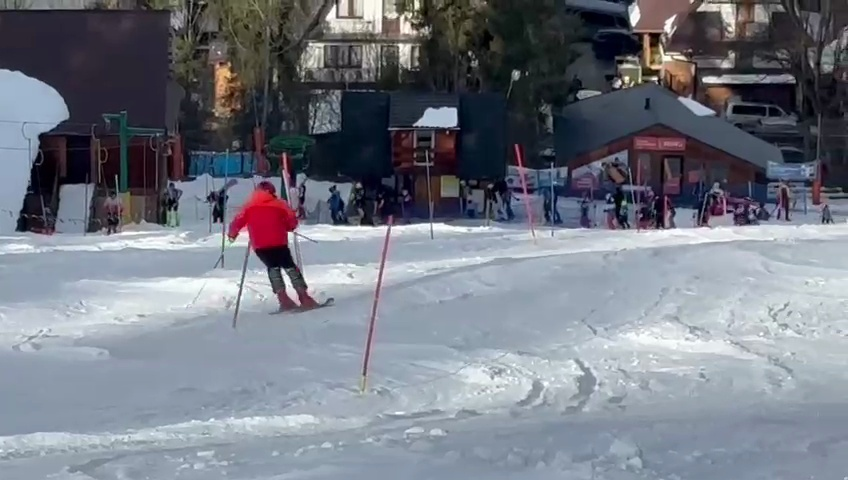gate: (351, 216, 406, 397), (227, 184, 263, 335), (280, 153, 314, 307), (514, 149, 539, 246), (208, 175, 230, 270), (421, 146, 438, 246), (547, 155, 561, 244), (632, 154, 647, 231), (629, 155, 642, 233)
